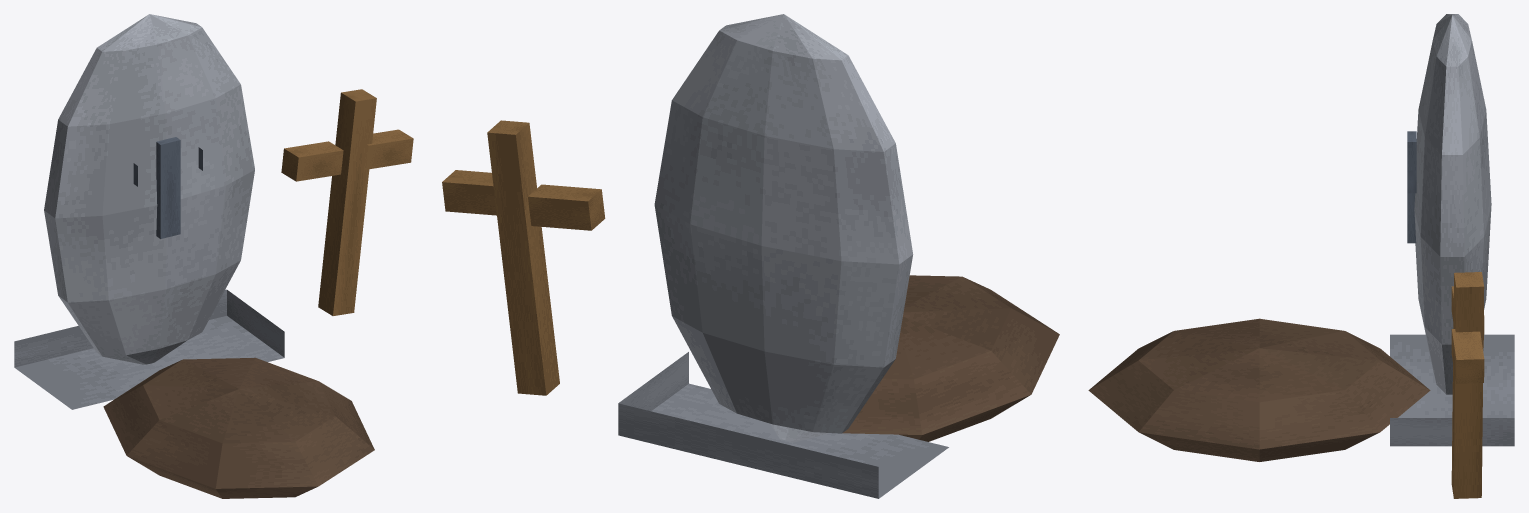
The model's file is prop_tombstone.glb.
The picture shows the model from 3 angles, left to right: view 1: azimuth 30°, elevation 25°; view 2: azimuth 150°, elevation 25°; view 3: azimuth 270°, elevation 25°; orthographic projection. The views are drawn at different scales.
Parts seen in each view (by area): view 1: prop_tombstone; view 2: prop_tombstone; view 3: prop_tombstone.
Part boxes in pixels (left/top/right/bottom): prop_tombstone: left=14, top=14, right=413, bottom=498; prop_tombstone: left=442, top=14, right=1059, bottom=498; prop_tombstone: left=1088, top=14, right=1514, bottom=498.
Size of the model in its own units: 1.51 by 1.48 by 1.37.
Materials: 1 (1 with a texture image).
